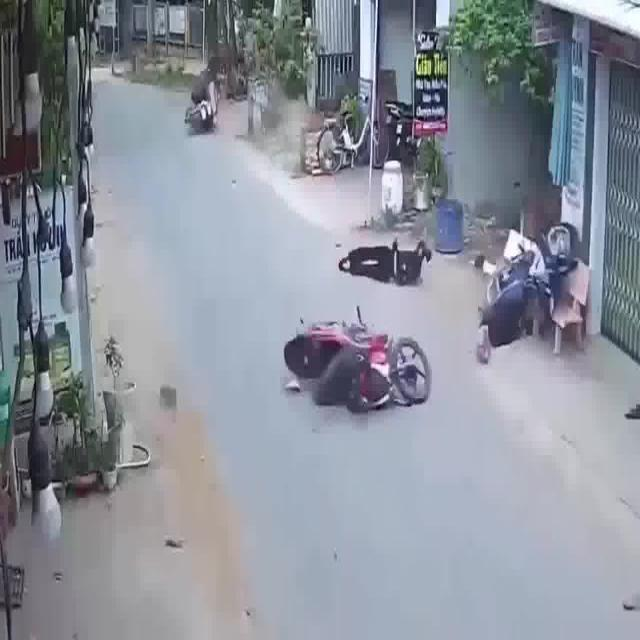multiple_accident: (274, 210, 582, 430), (176, 56, 227, 142)
